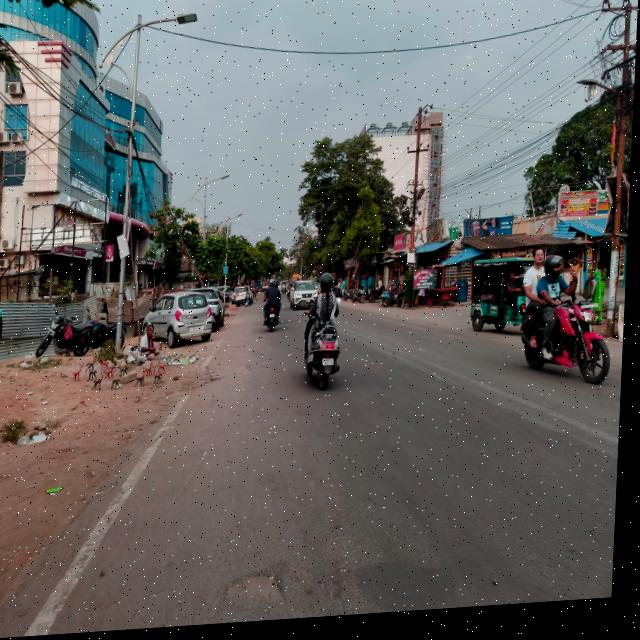bike: (516, 299, 622, 400), (38, 299, 100, 368), (303, 310, 348, 395), (88, 308, 133, 354), (383, 288, 408, 315), (269, 306, 284, 337), (353, 290, 370, 311), (371, 291, 388, 309), (346, 292, 356, 308), (248, 294, 256, 312)
car: (145, 290, 218, 352), (205, 285, 233, 334), (292, 282, 321, 316), (238, 288, 257, 312)
